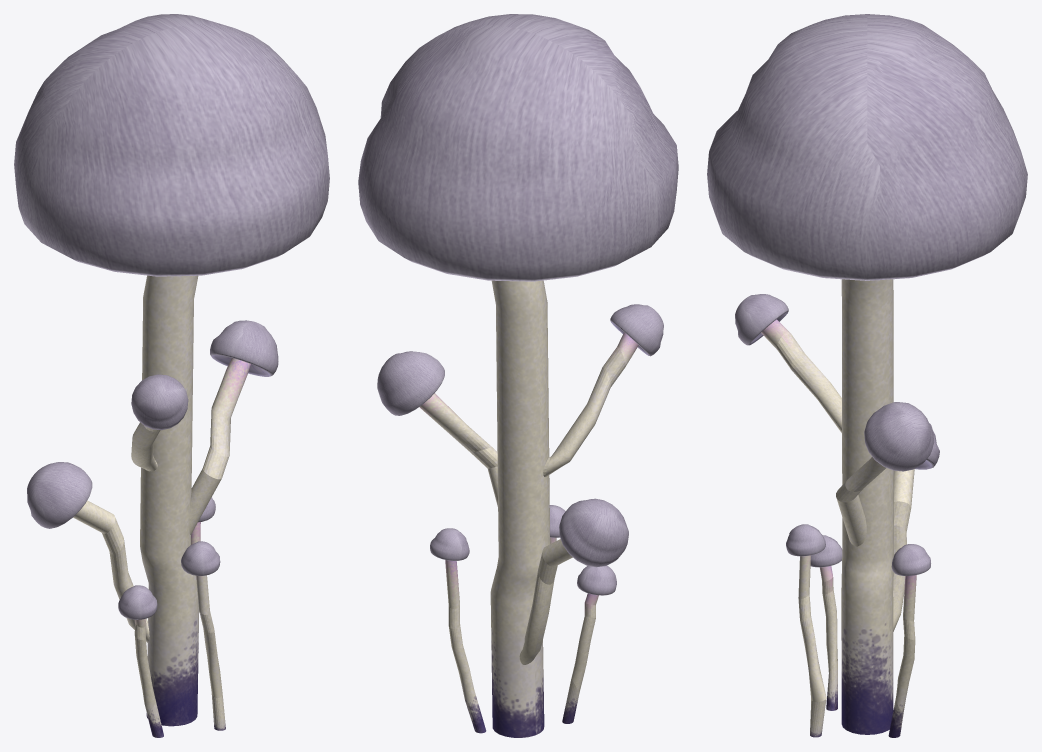
The model's file is Mushrooms.fbx.
3 views of the same model, side by side, from view 1: azimuth 30°, elevation 25°; view 2: azimuth 150°, elevation 25°; view 3: azimuth 270°, elevation 25° (orthographic).
Parts seen in each view (by area): view 1: polySurface9, pCylinder15; view 2: polySurface9, pCylinder15; view 3: polySurface9, pCylinder15.
Part boxes in pixels (box(x1,y1,x2,y2)): polySurface9: box(14, 14, 329, 619); pCylinder15: box(73, 275, 251, 737); polySurface9: box(358, 14, 678, 595); pCylinder15: box(419, 280, 638, 737); polySurface9: box(707, 14, 1027, 575); pCylinder15: box(761, 279, 916, 737).
Size of the model in its own units: 47.32 by 113 by 47.32.
